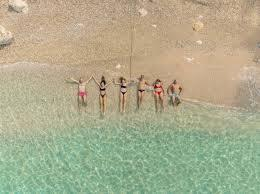Person: (68, 73, 94, 114), (91, 75, 113, 117), (112, 76, 135, 115), (166, 80, 184, 108), (152, 78, 167, 111), (135, 74, 148, 110)
